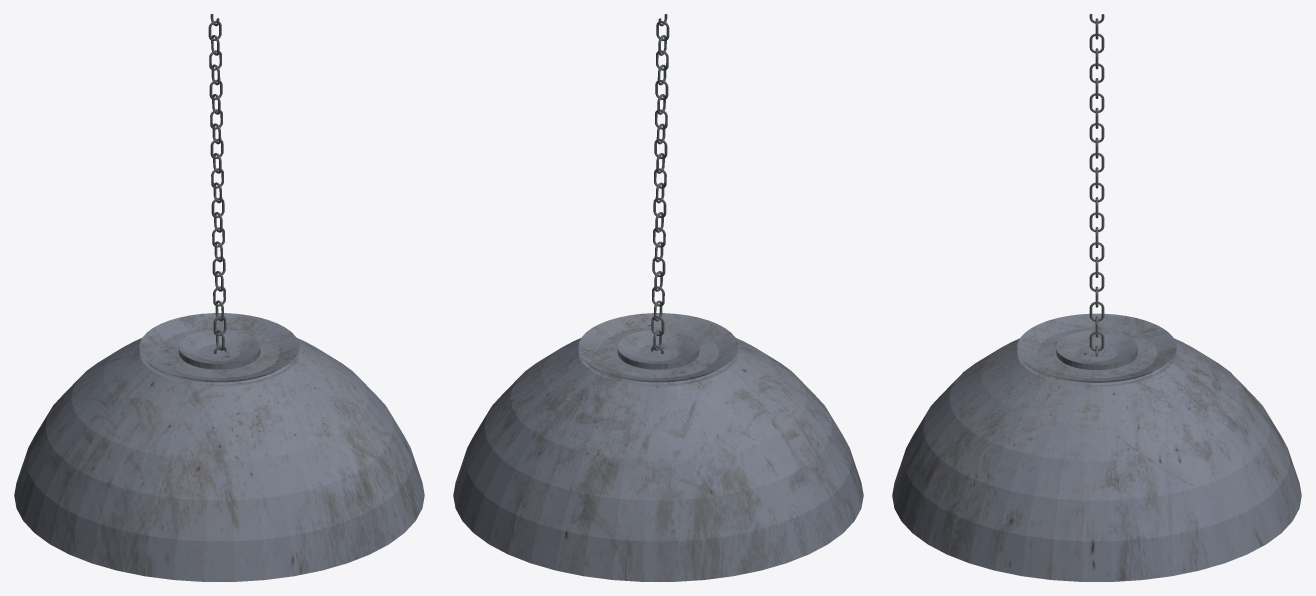
The model's file is CLight.obj.
The picture shows the model from 3 angles, left to right: view 1: azimuth 30°, elevation 25°; view 2: azimuth 150°, elevation 25°; view 3: azimuth 270°, elevation 25°; orthographic projection.
Visible parts, largest first — view 1: TorusFBXASC046002; view 2: TorusFBXASC046002; view 3: TorusFBXASC046002.
Part boxes in pixels (box(x1,y1,x2,y2)): TorusFBXASC046002: box(14, 14, 424, 581); TorusFBXASC046002: box(453, 14, 863, 581); TorusFBXASC046002: box(892, 14, 1301, 581).
Size of the model in its own units: 2.93 by 3.81 by 2.94.
3 materials, 3 textured.
